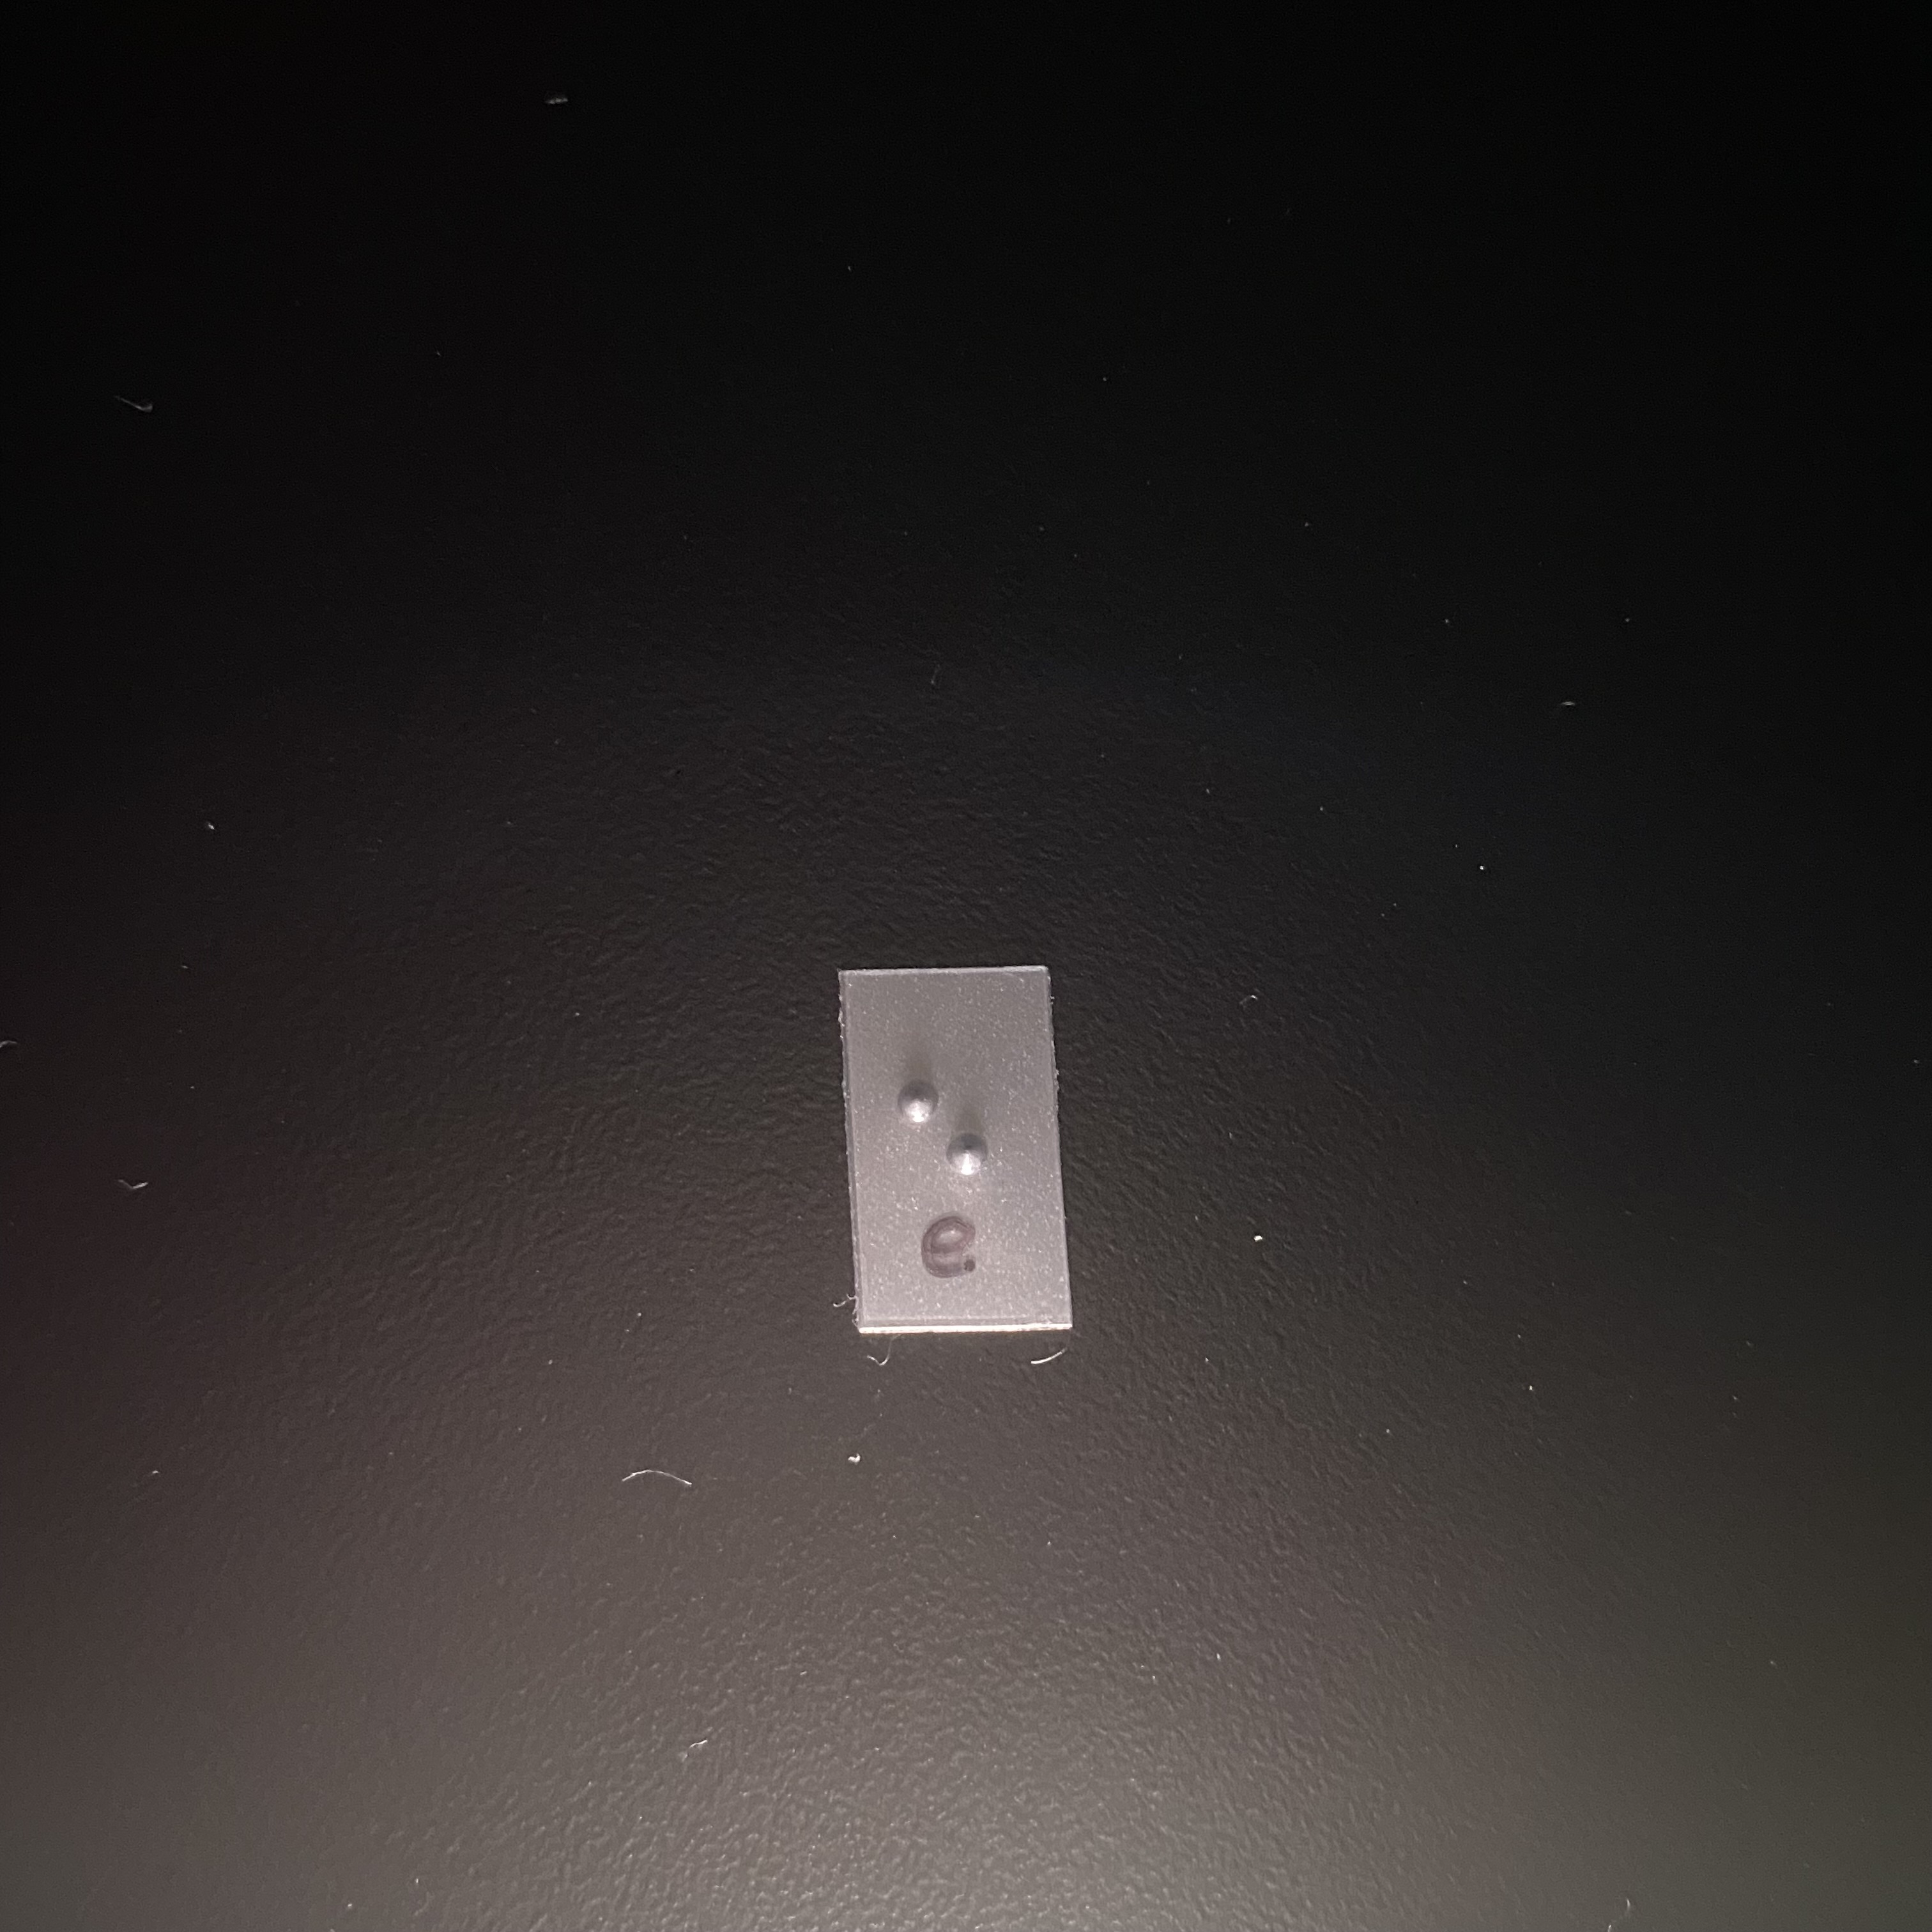e: (891, 1055, 1000, 1260)
